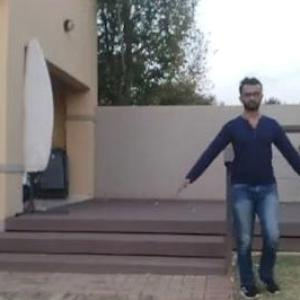land: (166, 75, 299, 299)
